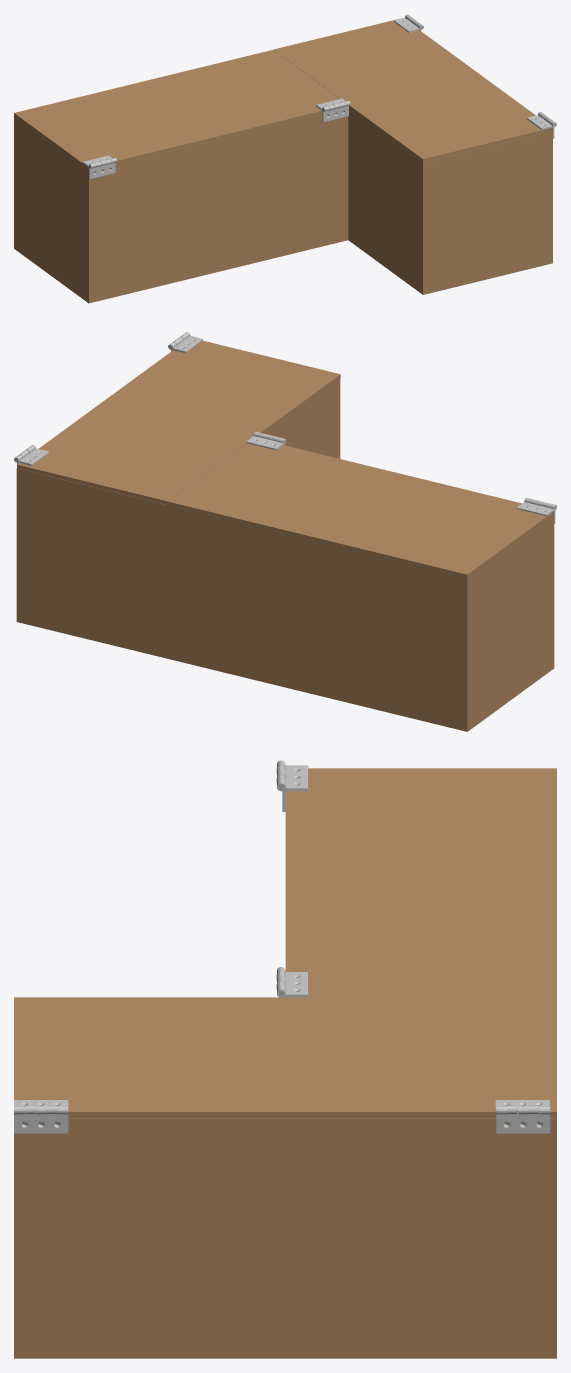
Rendered from RCJO2015RRL_L_Large.dae.
3 renders of one model, top to bottom at view 1: azimuth 30°, elevation 25°; view 2: azimuth 150°, elevation 25°; view 3: azimuth 270°, elevation 25°, orthographic. The views are drawn at different scales.
Parts seen in each view (by area): view 1: Group146, Group153, Group107, Group124, Group137, Group123, Group174, Group175, Group108, __05, Group217; view 2: Group151, Group153, Group107, Group137, Group123, Group174, Group175; view 3: Group108, Group107, Group153, Group175, Group151, __03, __02, __07, __06.
Part boxes in pixels (x1,y1,x2,y2): Group146: (92, 111, 348, 299); Group153: (14, 50, 339, 170); Group107: (273, 18, 552, 162); Group124: (421, 131, 549, 291); Group137: (15, 118, 91, 299); Group123: (348, 108, 421, 289); Group174: (14, 237, 348, 303); Group175: (348, 237, 552, 294); Group108: (549, 131, 552, 260); __05: (89, 158, 117, 179); Group217: (322, 101, 350, 122); Group151: (16, 468, 469, 727); Group153: (167, 443, 554, 578); Group107: (17, 340, 340, 504); Group137: (469, 515, 554, 725); Group123: (265, 380, 338, 458); Group174: (167, 655, 554, 731); Group175: (16, 618, 166, 658); Group108: (14, 1118, 550, 1352); Group107: (14, 997, 556, 1117); Group153: (285, 768, 556, 997); Group175: (14, 1352, 556, 1358); Group151: (550, 1118, 556, 1352); __03: (14, 1106, 68, 1133); __02: (496, 1106, 550, 1133); __07: (276, 765, 308, 791); __06: (276, 971, 308, 997).
Bounding box in the file's own units: 0.1516 × 0.1 × 0.0517.
